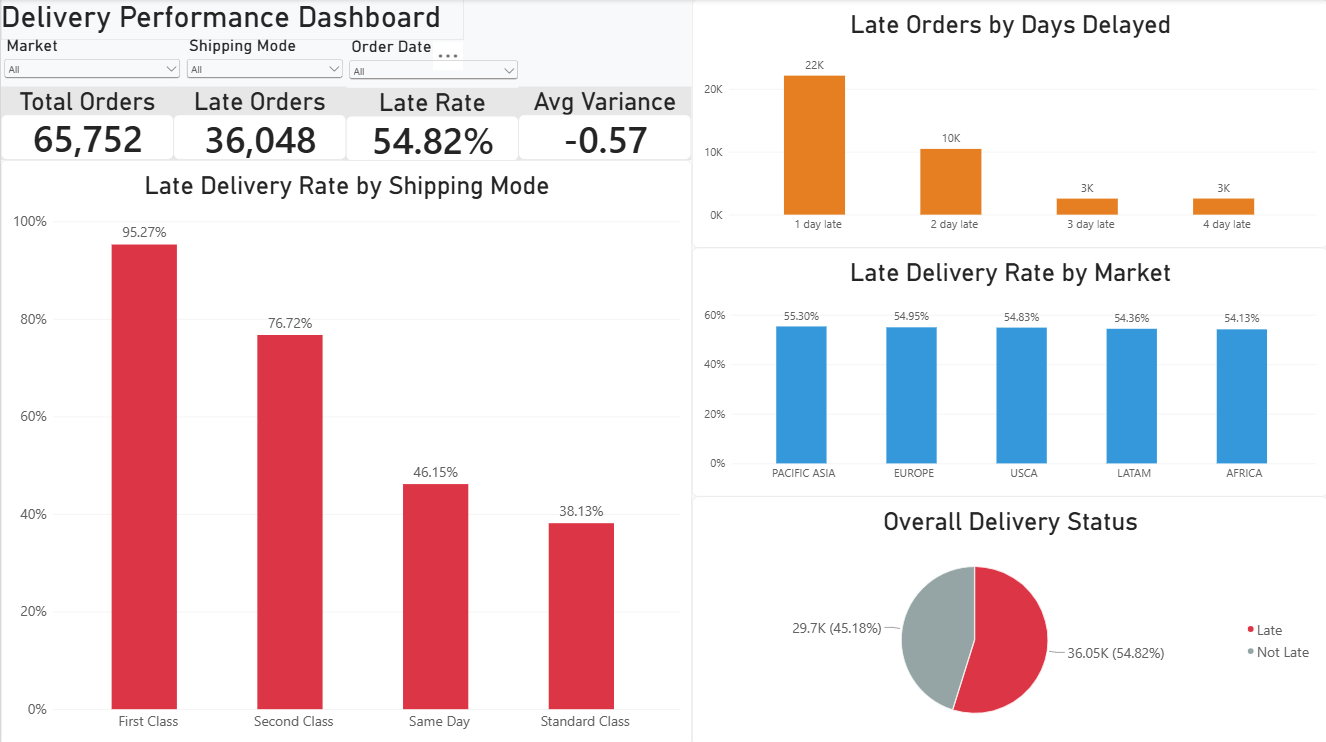

The page's visual inventory and layout, read from the dashboard file:
{"tool":"powerbi","page":{"name":"Page 1","canvas":[1920,1080],"ordinal":0},"visuals":[{"type":"cardVisual","title":"Total Orders","fields":{"Data":["Table1.Total Orders Display"]},"box":[0,126,250,106],"z":1000},{"type":"cardVisual","title":"Late  Orders","fields":{"Data":["Table1.Total Orders Display"]},"box":[250,126,250,106],"z":2000},{"type":"cardVisual","title":"Late Rate","fields":{"Data":["Table1.Measure"]},"box":[500,128,250,106],"z":3000},{"type":"columnChart","title":"Late Delivery Rate by Shipping Mode","fields":{"Category":["Table1.Shipping Mode"],"Y":["Table1.Late Delivery Rate"]},"box":[0,233.4,1000,847.5],"z":4000},{"type":"cardVisual","title":"Avg Variance","fields":{"Data":["Table1.Average Schedule Variance"]},"box":[750,126,250,106],"z":5000},{"type":"columnChart","title":"Late Orders by Days Delayed","fields":{"Category":["Table1.Days Late Label"],"Y":["Count(Table1.Order Id)"]},"box":[1000,0,920,360],"z":6000},{"type":"columnChart","title":"Late Delivery Rate by Market","fields":{"Category":["Table1.Market"],"Y":["Table1.Late Delivery Rate"]},"box":[1000.7,360.1,920,360],"z":7000},{"type":"pieChart","title":"Overall Delivery Status","fields":{"Category":["Table1.Late_delivery_risk(labeled)"],"Y":["Count(Table1.Order Id)"]},"box":[1000,720,920,360],"z":8000},{"type":"textbox","box":[0,0,670,60],"z":9000},{"type":"slicer","fields":{"Values":["Table1.Market"]},"box":[0,52.9,264.3,72.9],"z":10000},{"type":"slicer","fields":{"Values":["Table1.Shipping Mode"]},"box":[264.3,52.9,235.7,75.7],"z":11000},{"type":"slicer","fields":{"Values":["Table1.Order Date"]},"box":[500,54,254,74],"z":12000}]}

Visuals, with their boxes in screenshot pixels (x1, y1, x2, y2), scaled from the page's 1920x1080 canvas onto the 1326x742 screenshot:
"Total Orders" cardVisual: rect(0, 87, 173, 159)
"Late  Orders" cardVisual: rect(173, 87, 345, 159)
"Late Rate" cardVisual: rect(345, 88, 518, 161)
"Late Delivery Rate by Shipping Mode" columnChart: rect(0, 160, 691, 741)
"Avg Variance" cardVisual: rect(518, 87, 691, 159)
"Late Orders by Days Delayed" columnChart: rect(691, 0, 1325, 247)
"Late Delivery Rate by Market" columnChart: rect(691, 247, 1325, 495)
"Overall Delivery Status" pieChart: rect(691, 495, 1325, 741)
textbox: rect(0, 0, 463, 41)
slicer - Table1.Market: rect(0, 36, 183, 86)
slicer - Table1.Shipping Mode: rect(183, 36, 345, 88)
slicer - Table1.Order Date: rect(345, 37, 521, 88)
